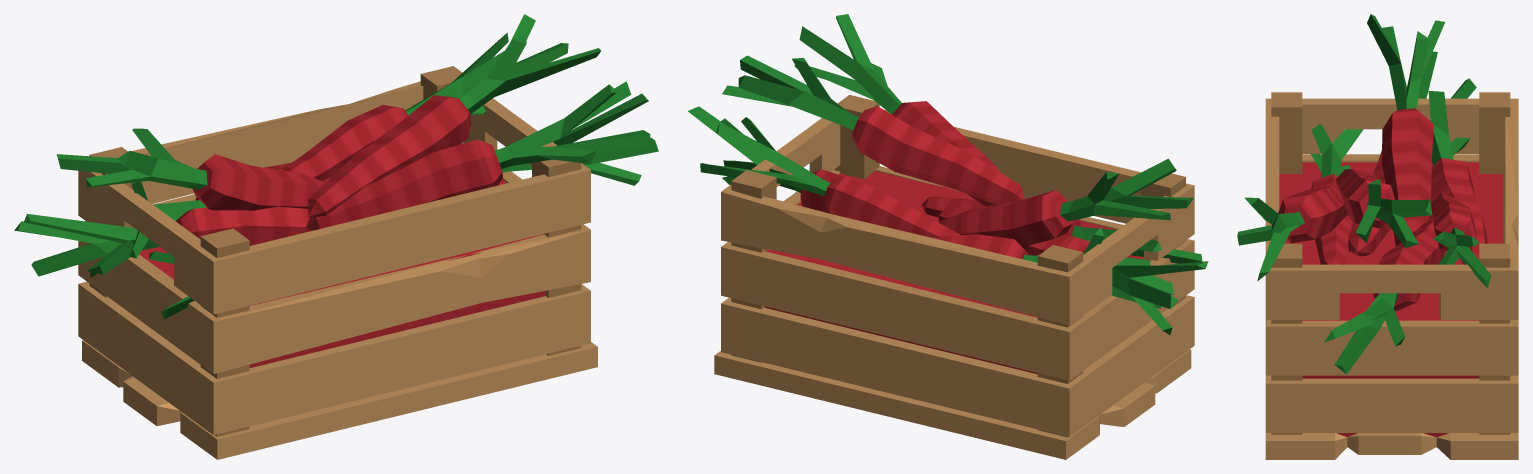
Rendered from Carrots Crate.fbx.
3 views of the same model, side by side, from view 1: azimuth 30°, elevation 25°; view 2: azimuth 150°, elevation 25°; view 3: azimuth 270°, elevation 25° (orthographic). The views are drawn at different scales.
Visible parts, largest first — view 1: Carrots_Crate; view 2: Carrots_Crate; view 3: Carrots_Crate.
Boxes of the visible parts, x1=… form: Carrots_Crate: x1=14, y1=14, x2=658, y2=459; Carrots_Crate: x1=688, y1=14, x2=1208, y2=459; Carrots_Crate: x1=1237, y1=14, x2=1518, y2=459.
Bounding box in the file's own units: 114 × 53.45 × 50.36.
